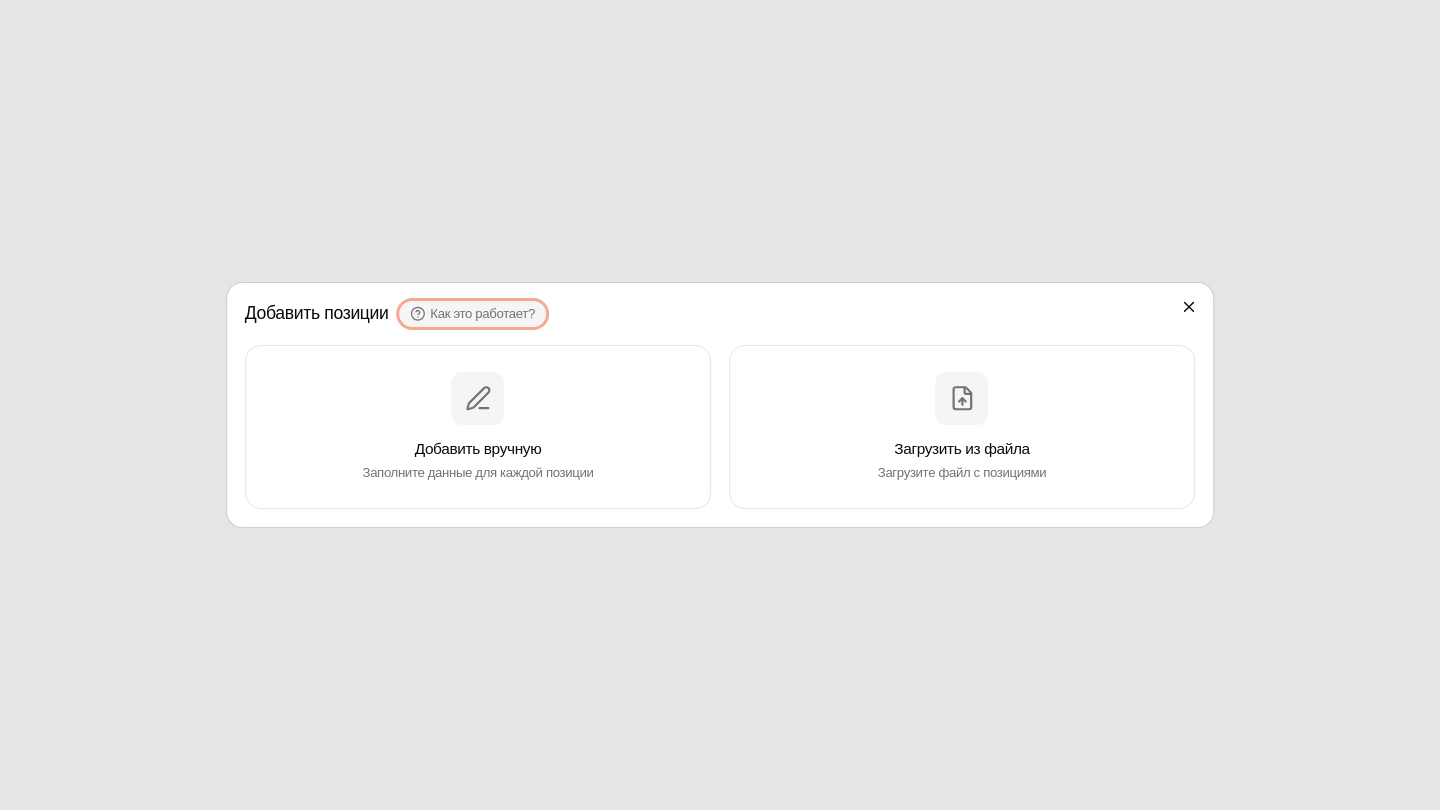
Test: AddPositionsDialog › clicking «Загрузить из файла» shows the dropzone
Click the button "Загрузить из файла Загрузите файл с позициями" at (962,427), box [729,345,1195,509]
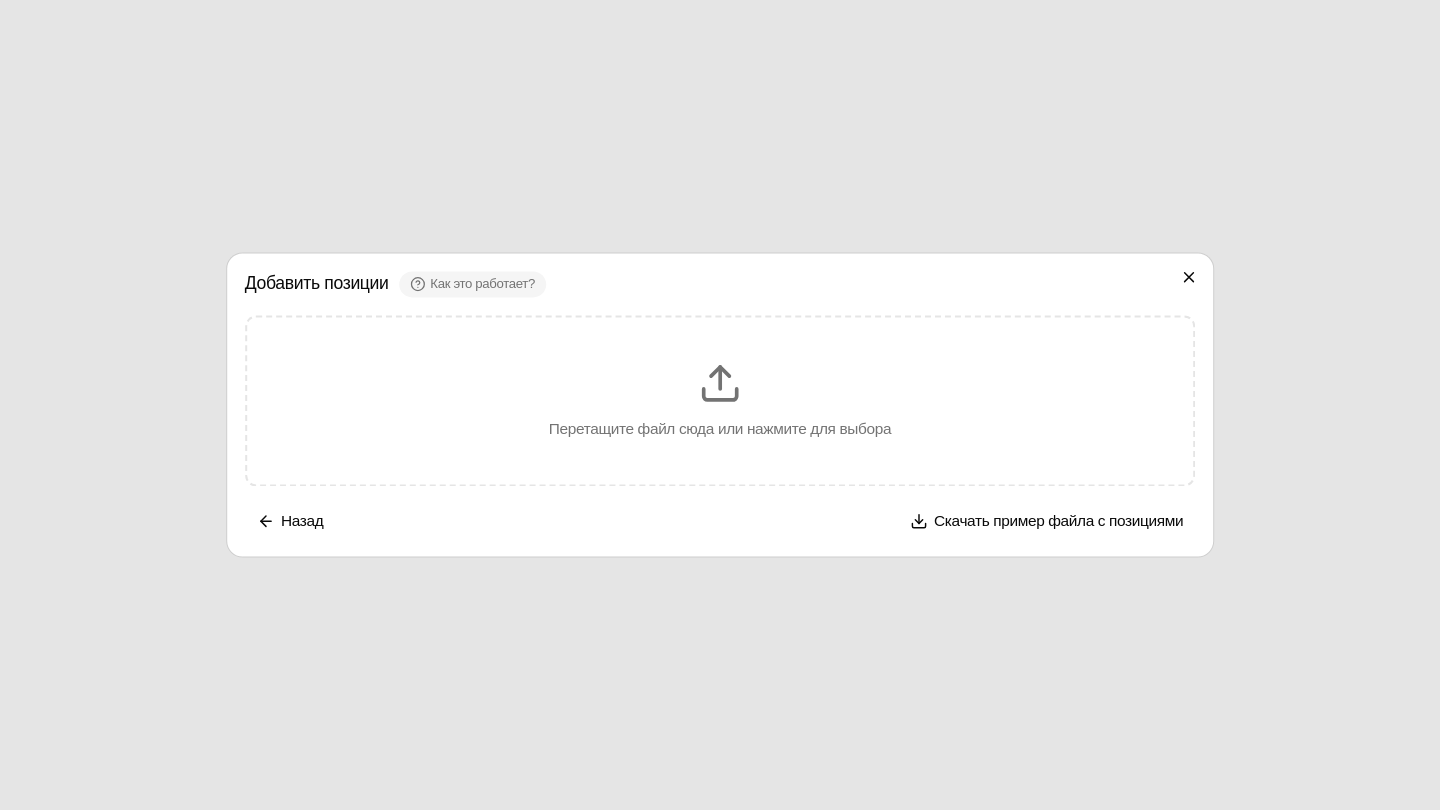
Result: the button with test id "dropzone" is shown at [245,315,1195,486]
Result: the button "Скачать пример файла с позициями" is shown at [898,504,1195,539]
